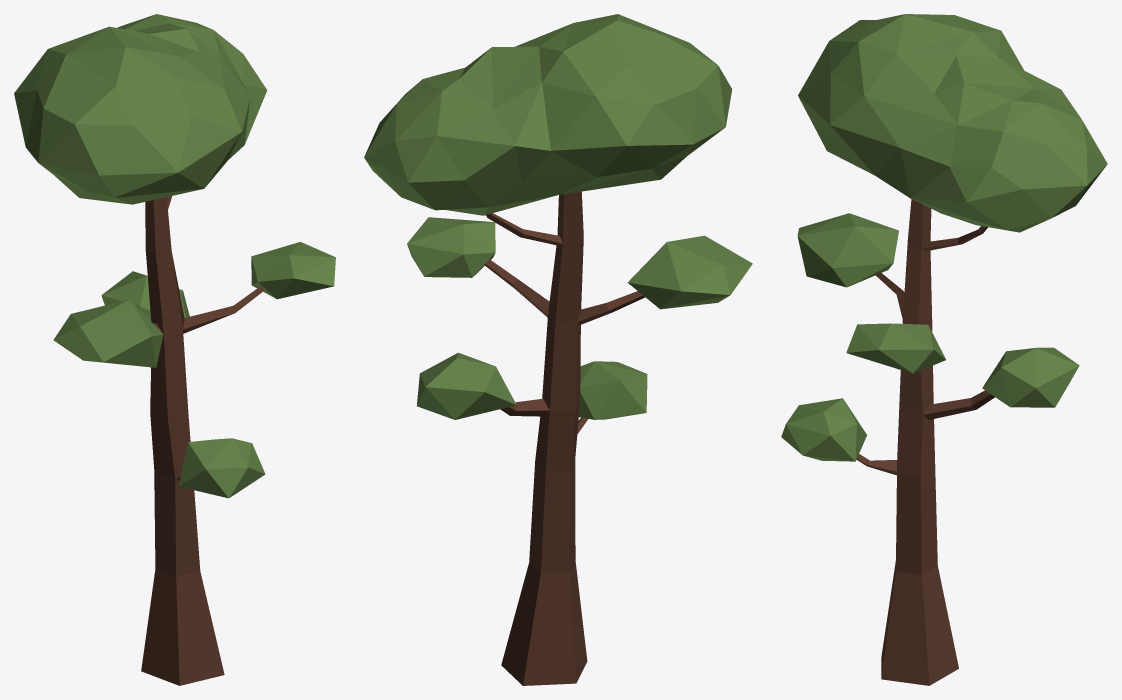
Rendered from PlantM-2.fbx.
3 renders of one model, left to right at view 1: azimuth 30°, elevation 25°; view 2: azimuth 150°, elevation 25°; view 3: azimuth 270°, elevation 25°, orthographic. The views are drawn at different scales.
Parts seen in each view (by area): view 1: PlantM-2; view 2: PlantM-2; view 3: PlantM-2.
Part boxes in pixels (<box>): PlantM-2: <box>14,14,335,685</box>; PlantM-2: <box>364,14,752,685</box>; PlantM-2: <box>781,14,1107,685</box>.
Size of the model in its own units: 132 by 275 by 130.
